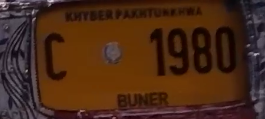C1980: (6, 2, 261, 116)
